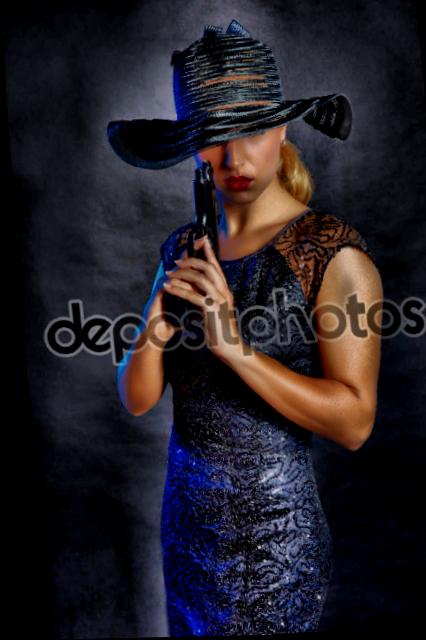pistol: (140, 160, 228, 333)
